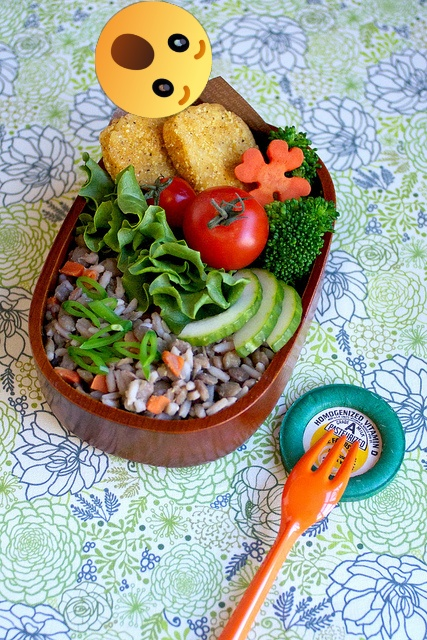wow: (95, 1, 212, 118)
